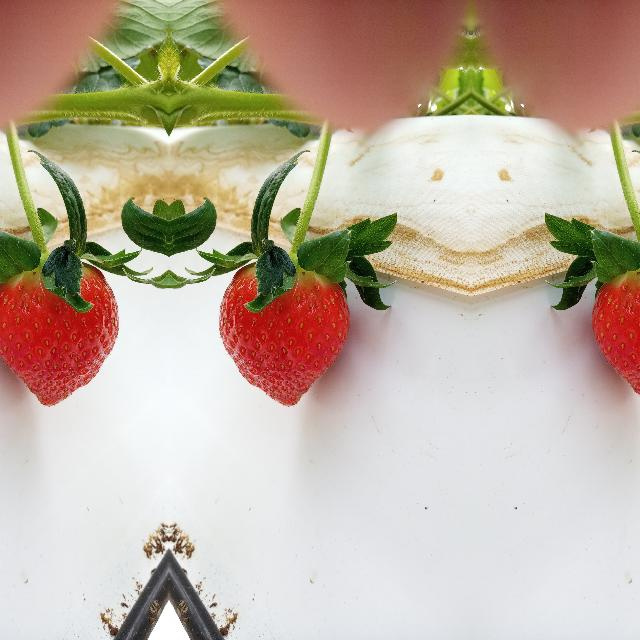Health_100: (217, 262, 349, 406), (0, 261, 119, 406), (592, 261, 640, 406)
